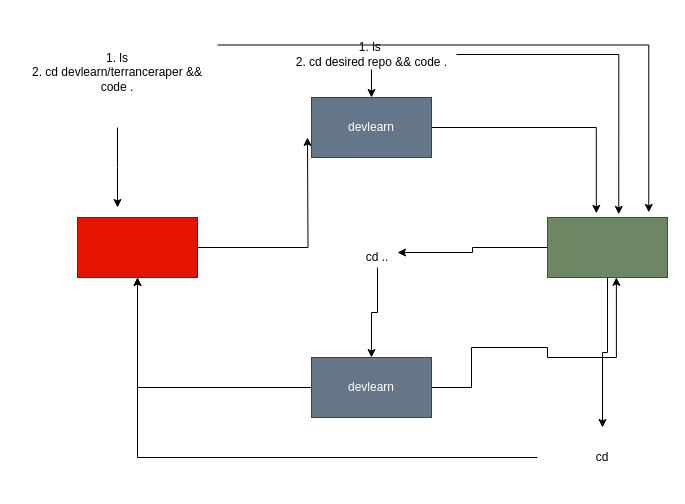
Some shapes in this 685 by 504 pixel diagram are drawn without their labels. Each missing label, with the box of its shape:
Desired Repo: (546, 216, 668, 278)
Main Directory: (76, 216, 198, 278)
